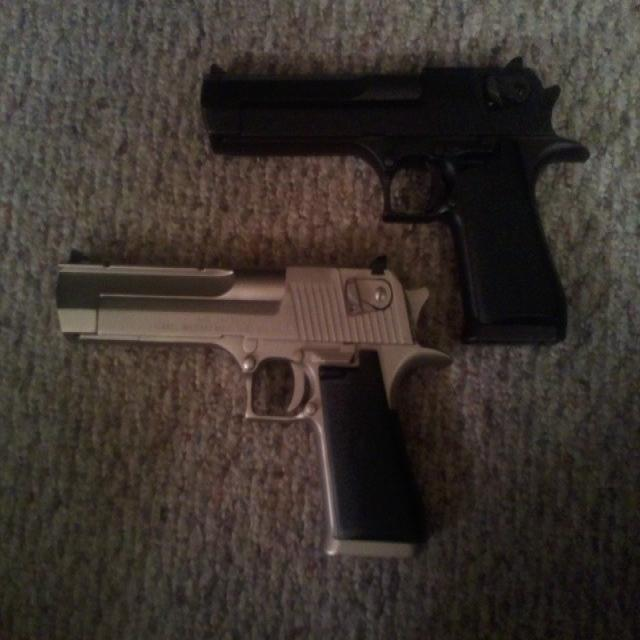HandGun: (56, 257, 446, 559), (200, 61, 591, 347)
